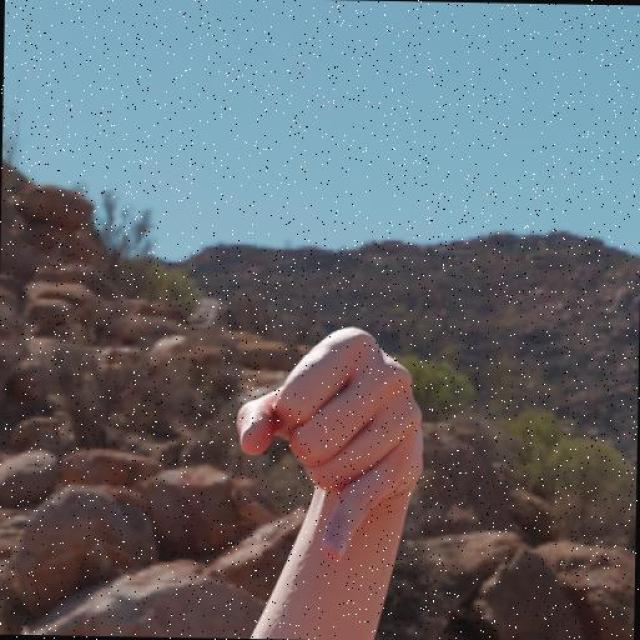J: (229, 320, 432, 568)
